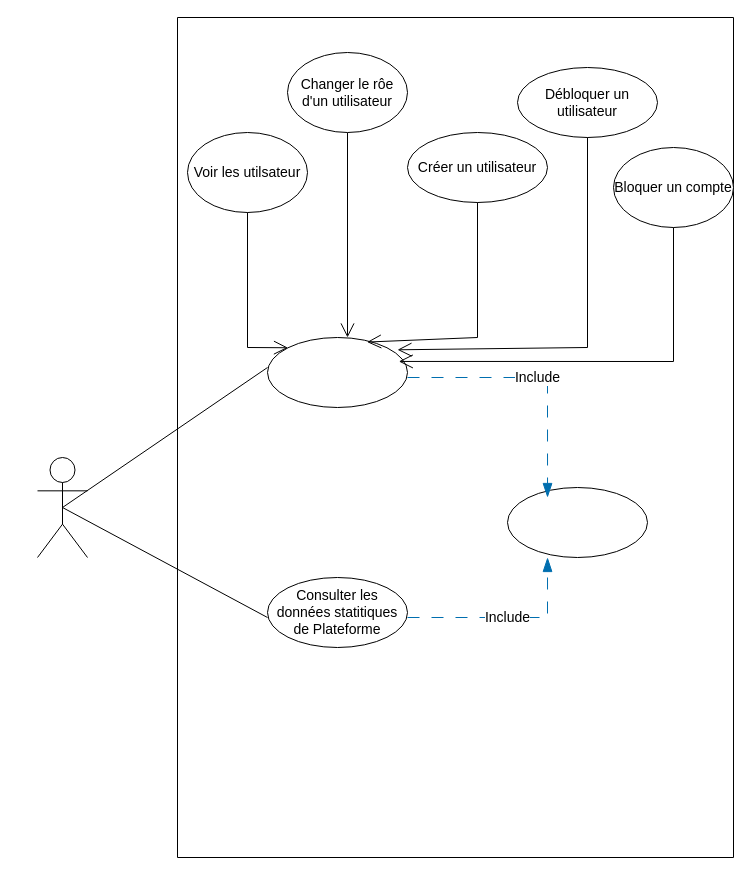
The diagram is 751 pixels wide and 875 high, and some of its shapes have lost their labels. The shapes that lost their labels are listed below. From the top down, each one's centre as x and y in pixels, then its label:
At point (337, 372): "Gérer la plateforme".
At point (62, 507): "Administrateur".
At point (577, 522): "Se connecter".
